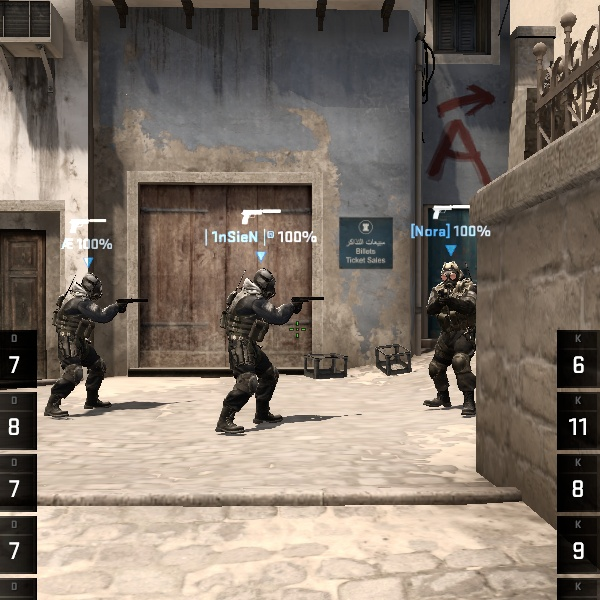ct_head: (434, 256, 469, 293)
